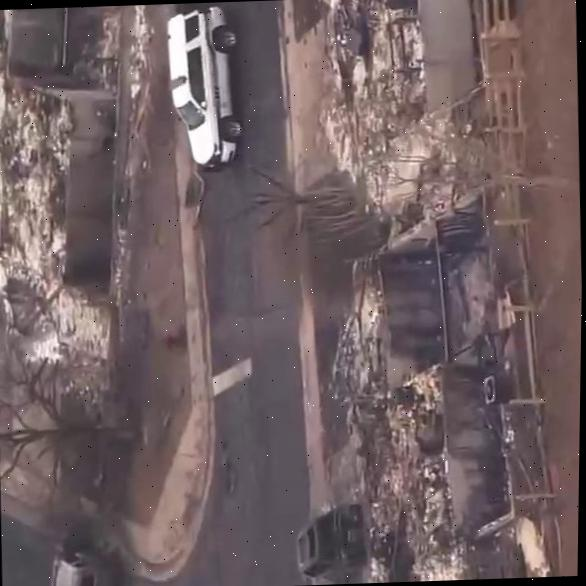car: (163, 5, 249, 174), (45, 540, 115, 586)
